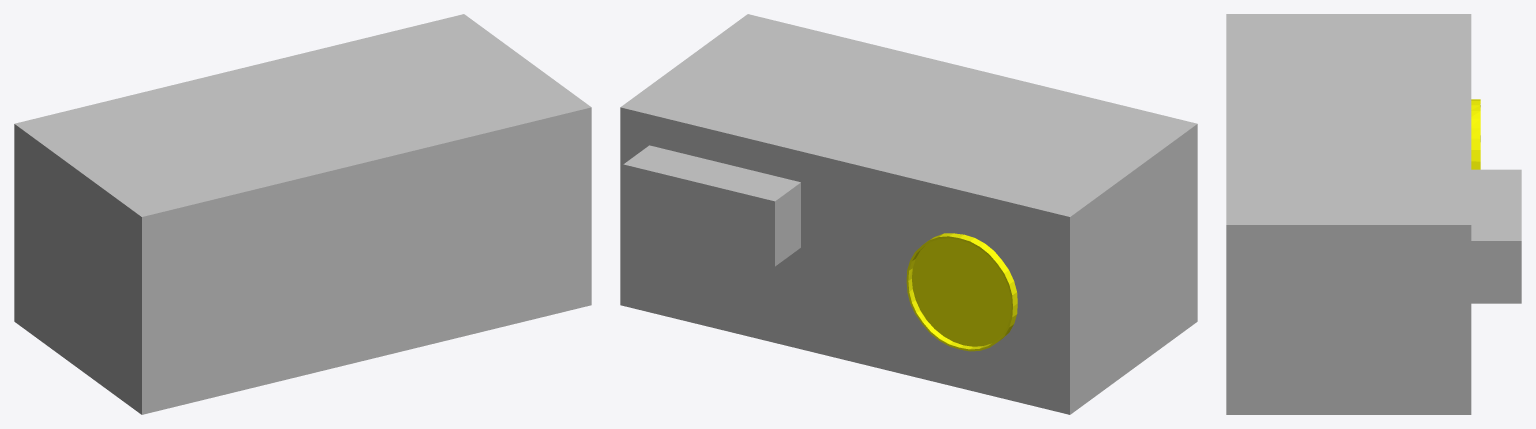
File: sm_hana_bas_ahu.glb
3 views of the same model, side by side, from view 1: azimuth 30°, elevation 25°; view 2: azimuth 150°, elevation 25°; view 3: azimuth 270°, elevation 25° (orthographic). The views are drawn at different scales.
Visible parts, largest first — view 1: sm_color_common; view 2: sm_color_common, sm_hana_bas_ahu; view 3: sm_color_common, sm_hana_bas_ahu.
Boxes of the visible parts, <box> form: sm_color_common: <box>14,14,591,414</box>; sm_color_common: <box>620,14,1197,414</box>; sm_hana_bas_ahu: <box>906,233,1017,351</box>; sm_color_common: <box>1226,14,1521,414</box>; sm_hana_bas_ahu: <box>1471,99,1480,169</box>.
Bounding box in the file's own units: 4.19 × 1.76 × 2.48.
2 materials, 1 textured.
